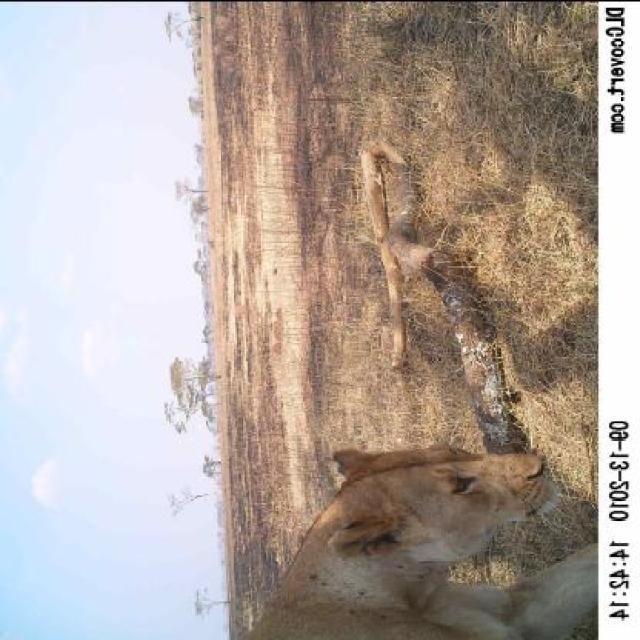Lion: (230, 428, 596, 638)
